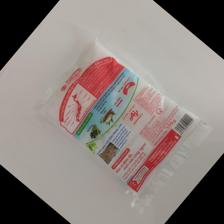Ajinomoto: (45, 39, 201, 200)
